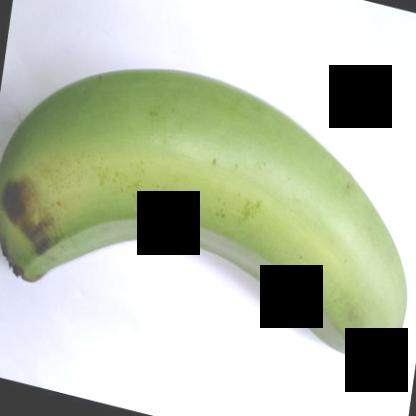freshunripe: (1, 54, 415, 380)
